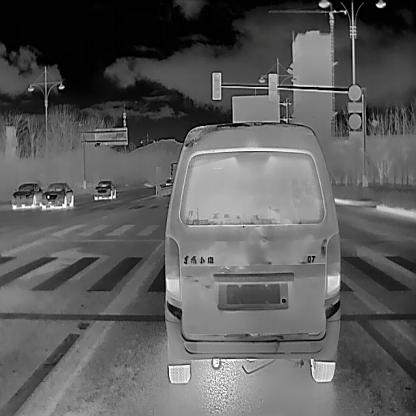car: (163, 121, 342, 384), (40, 181, 72, 209), (12, 182, 39, 210), (92, 178, 115, 198), (166, 178, 172, 186)
